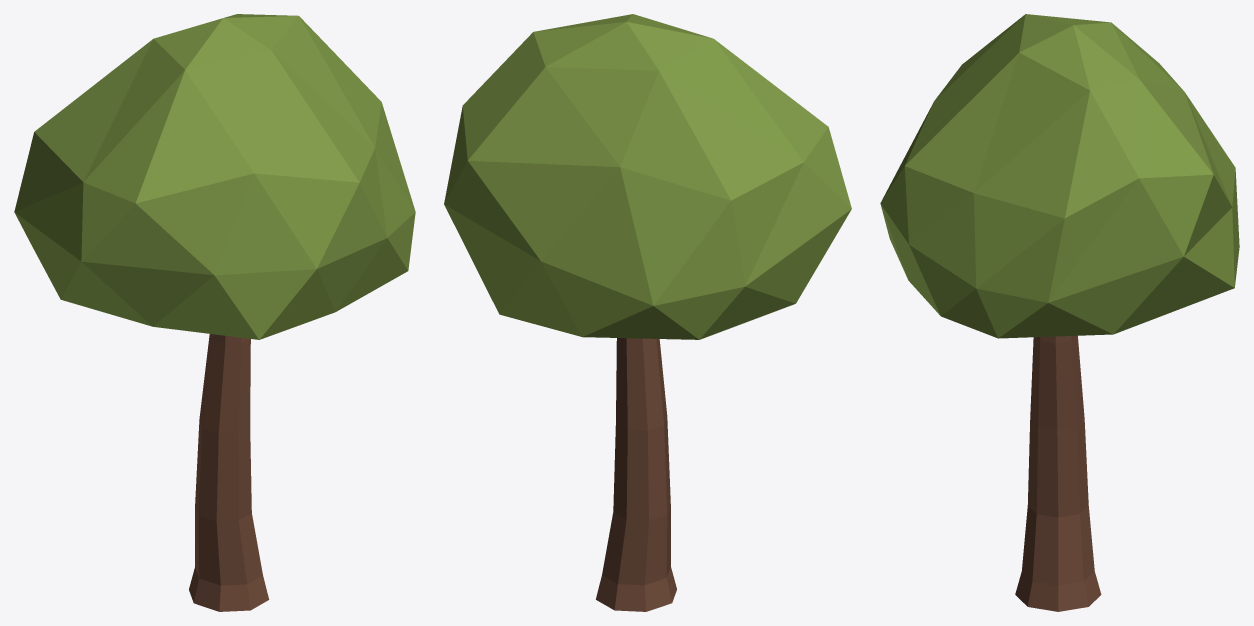
File: OakTree_Seedling.fbx
3 views of the same model, side by side, from view 1: azimuth 30°, elevation 25°; view 2: azimuth 150°, elevation 25°; view 3: azimuth 270°, elevation 25° (orthographic).
Parts seen in each view (by area): view 1: Icosphere.001; view 2: Icosphere.001; view 3: Icosphere.001.
Part boxes in pixels (<box>): Icosphere.001: <box>14,14,415,611</box>; Icosphere.001: <box>444,14,851,611</box>; Icosphere.001: <box>880,14,1239,611</box>.
Size of the model in its own units: 666 by 1048 by 598.
